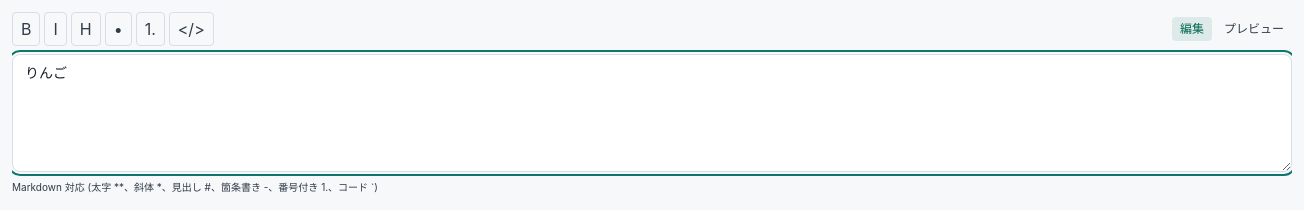
Test: MarkdownEditor › 箇条書きボタンは行頭に '- ' を付与する
Click the button named "箇条書き" at coordinates (118, 29), box [105,12,132,46]
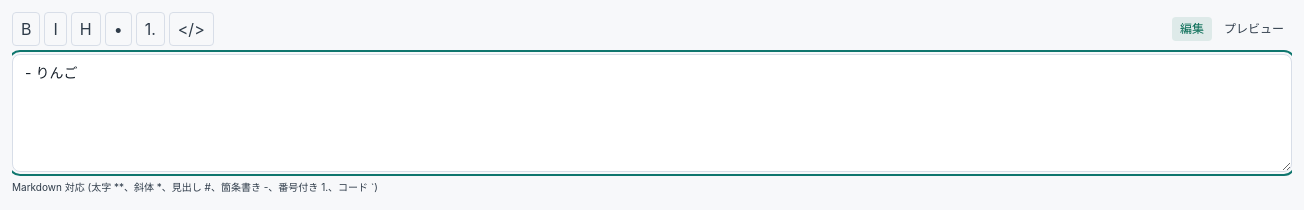
Expected: the text box named "本文" holds "- りんご", [12,54,1292,172]
